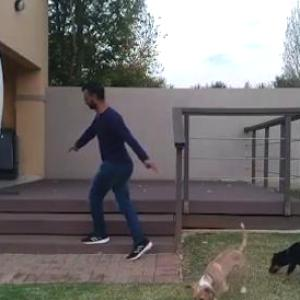land: (61, 72, 196, 267)
